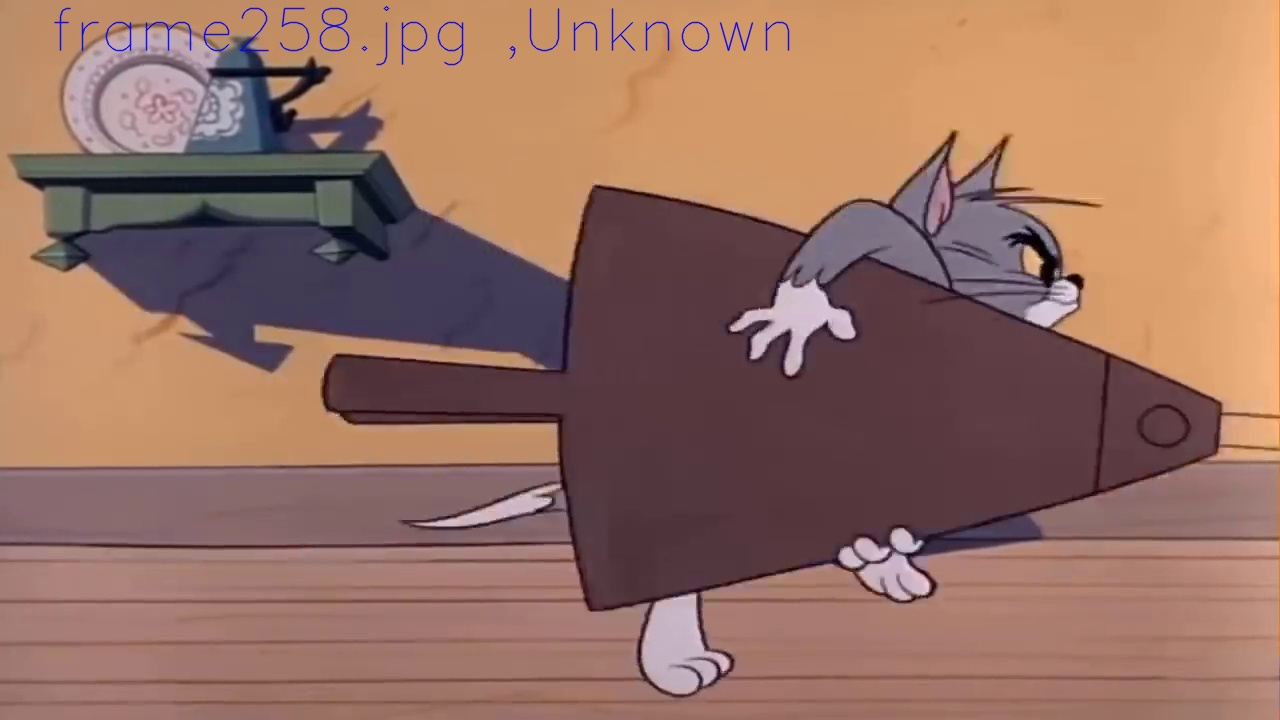angry: (1003, 230, 1086, 329)
